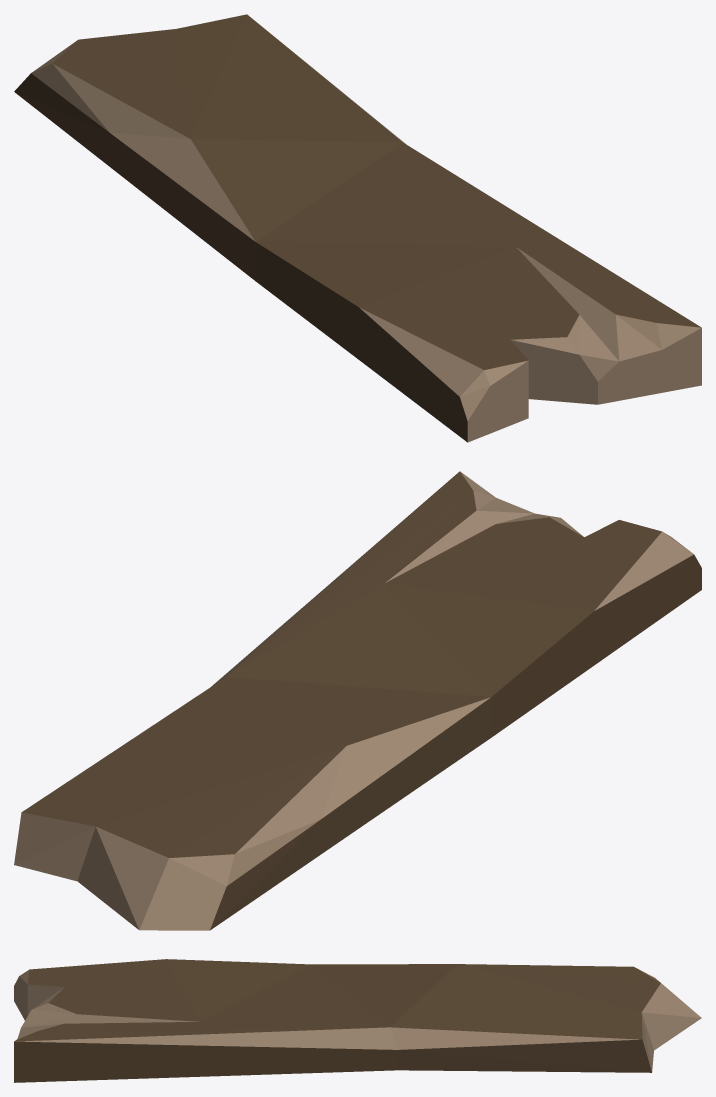
File: Board_04.FBX
The picture shows the model from 3 angles, top to bottom: view 1: azimuth 30°, elevation 25°; view 2: azimuth 150°, elevation 25°; view 3: azimuth 270°, elevation 25°; orthographic projection. The views are drawn at different scales.
Parts seen in each view (by area): view 1: Board_04; view 2: Board_04; view 3: Board_04.
Boxes of the visible parts, left/top/right/bottom form: Board_04: left=14, top=14, right=701, bottom=442; Board_04: left=14, top=471, right=701, bottom=930; Board_04: left=14, top=959, right=701, bottom=1082.
Size of the model in its own units: 0.8635 by 0.236 by 3.02.
